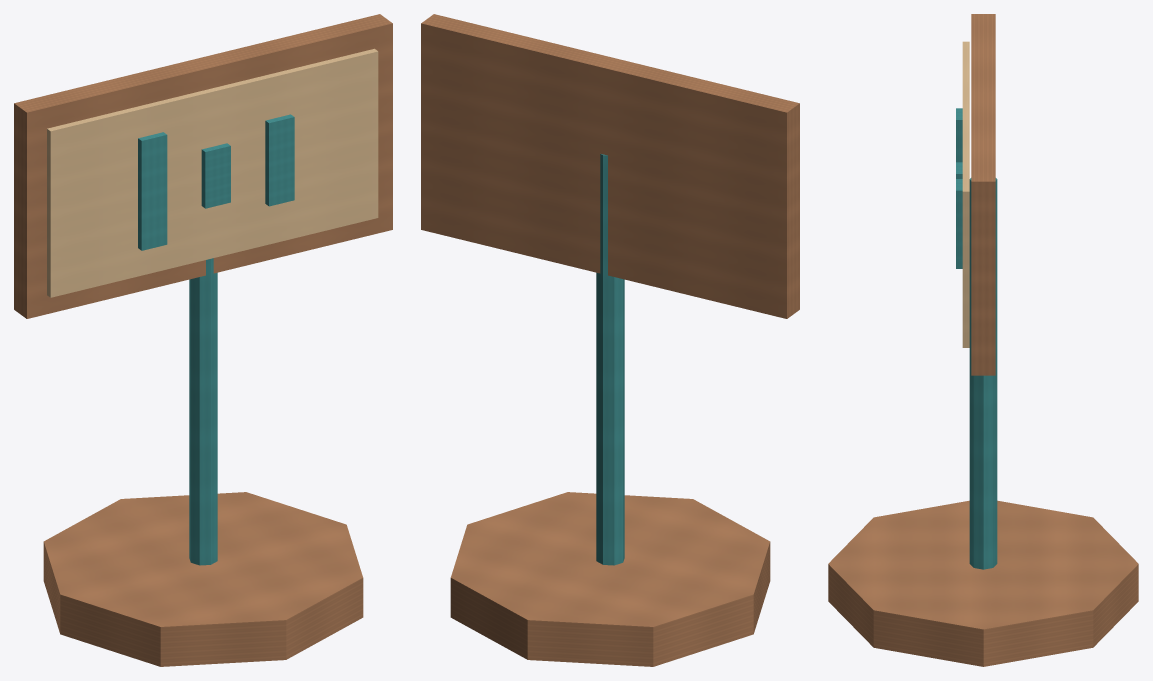
Rendered from atlas100-s092-a11.glb.
3 renders of one model, left to right at view 1: azimuth 30°, elevation 25°; view 2: azimuth 150°, elevation 25°; view 3: azimuth 270°, elevation 25°, orthographic. The views are drawn at different scales.
Visible parts, largest first — view 1: atlas100-s092-a11:part-003, atlas100-s092-a11:part-000, atlas100-s092-a11:part-002, atlas100-s092-a11:part-001, atlas100-s092-a11:part-004, atlas100-s092-a11:part-006, atlas100-s092-a11:part-005; view 2: atlas100-s092-a11:part-002, atlas100-s092-a11:part-000, atlas100-s092-a11:part-001; view 3: atlas100-s092-a11:part-000, atlas100-s092-a11:part-002, atlas100-s092-a11:part-001, atlas100-s092-a11:part-003, atlas100-s092-a11:part-006.
Boxes of the visible parts, box(x1,y1,x2,y2) form: atlas100-s092-a11:part-003: box(47, 48, 378, 297); atlas100-s092-a11:part-000: box(43, 492, 363, 666); atlas100-s092-a11:part-002: box(14, 14, 392, 318); atlas100-s092-a11:part-001: box(189, 258, 217, 565); atlas100-s092-a11:part-004: box(138, 132, 167, 250); atlas100-s092-a11:part-006: box(265, 114, 294, 206); atlas100-s092-a11:part-005: box(201, 143, 230, 208); atlas100-s092-a11:part-002: box(421, 14, 799, 318); atlas100-s092-a11:part-000: box(450, 492, 770, 666); atlas100-s092-a11:part-001: box(596, 154, 624, 565); atlas100-s092-a11:part-000: box(828, 500, 1138, 666); atlas100-s092-a11:part-002: box(971, 14, 995, 375); atlas100-s092-a11:part-001: box(969, 178, 997, 569); atlas100-s092-a11:part-003: box(962, 41, 969, 347); atlas100-s092-a11:part-006: box(956, 179, 962, 268).
Size of the model in its own units: 1.15 by 1.61 by 0.9.
Materials: 3 (3 with a texture image).
